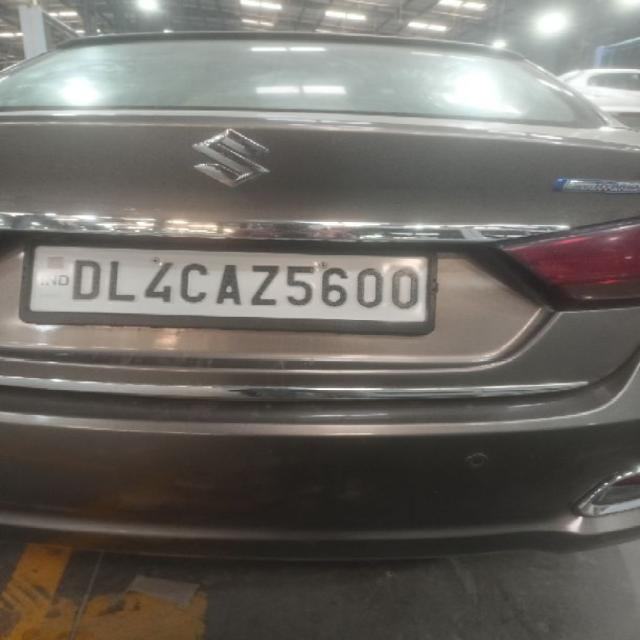license_plate: (19, 240, 438, 334)
